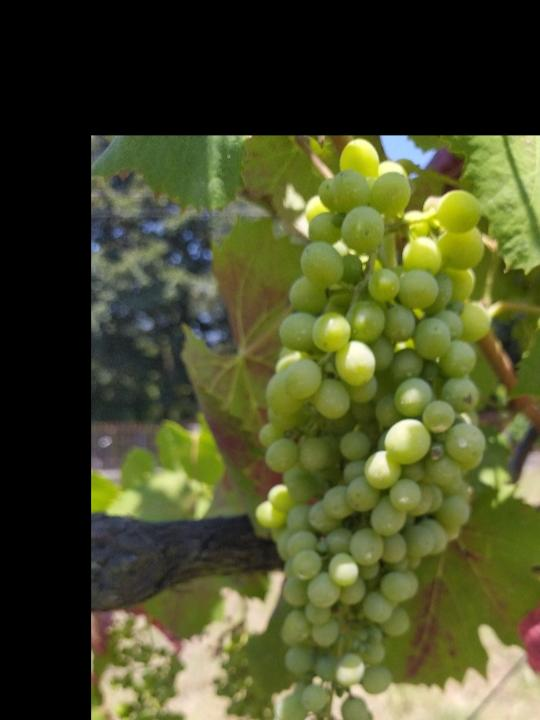grape: (253, 138, 493, 720)
